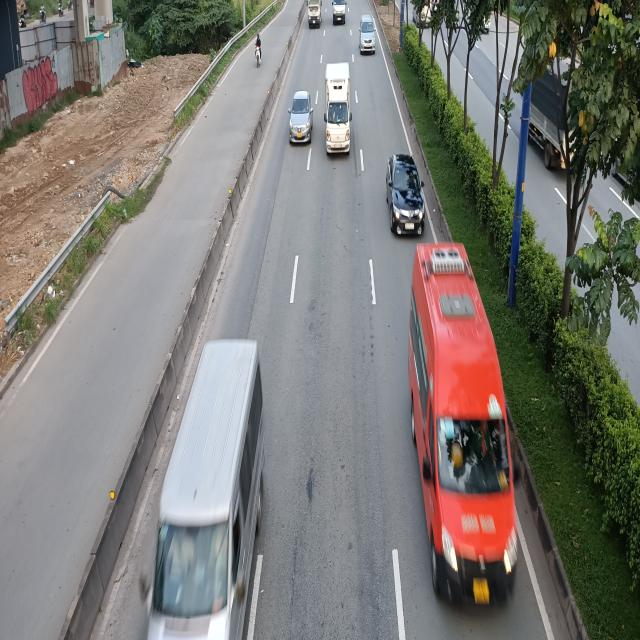car: (387, 154, 426, 238), (288, 89, 314, 144), (358, 14, 376, 54)
truck: (323, 62, 352, 155), (307, 0, 323, 27)
van: (407, 246, 520, 607), (132, 344, 263, 640), (331, 0, 346, 24)
